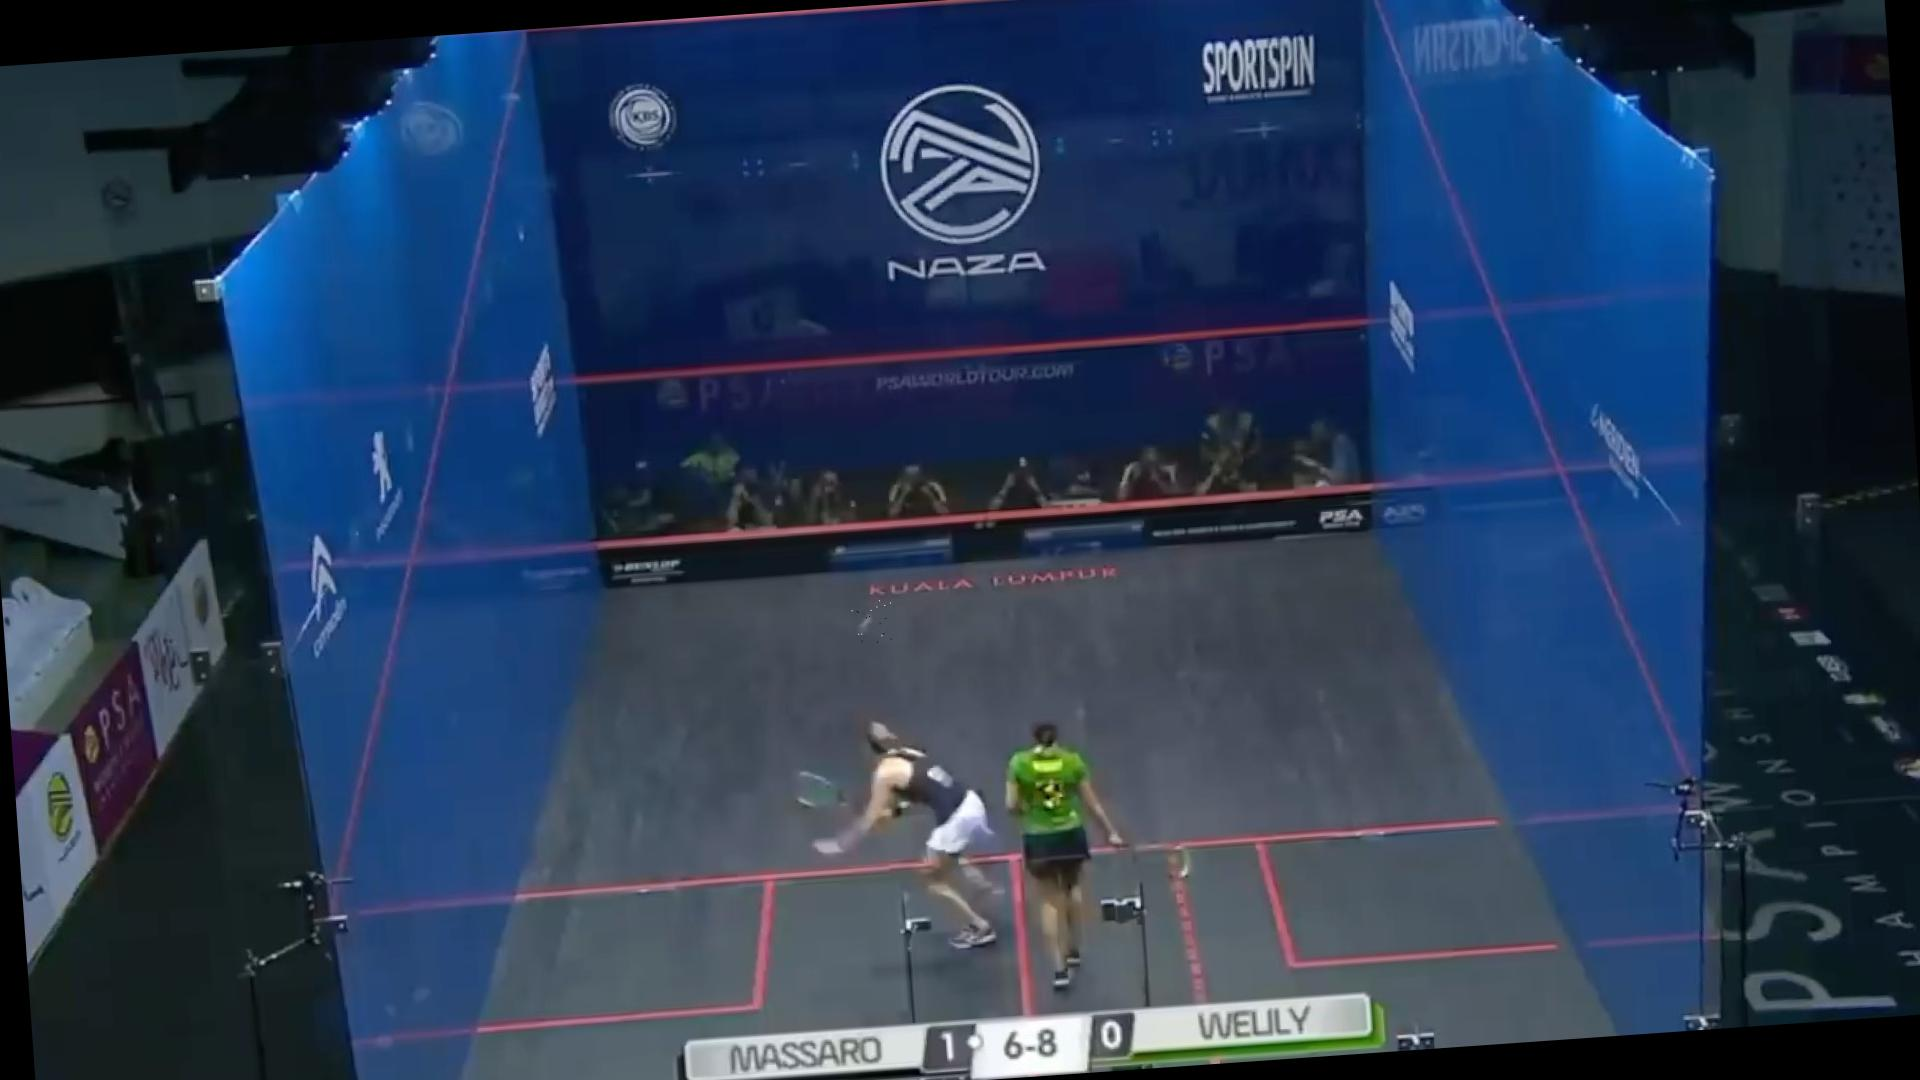Squash-Ball: (849, 599, 894, 647)
